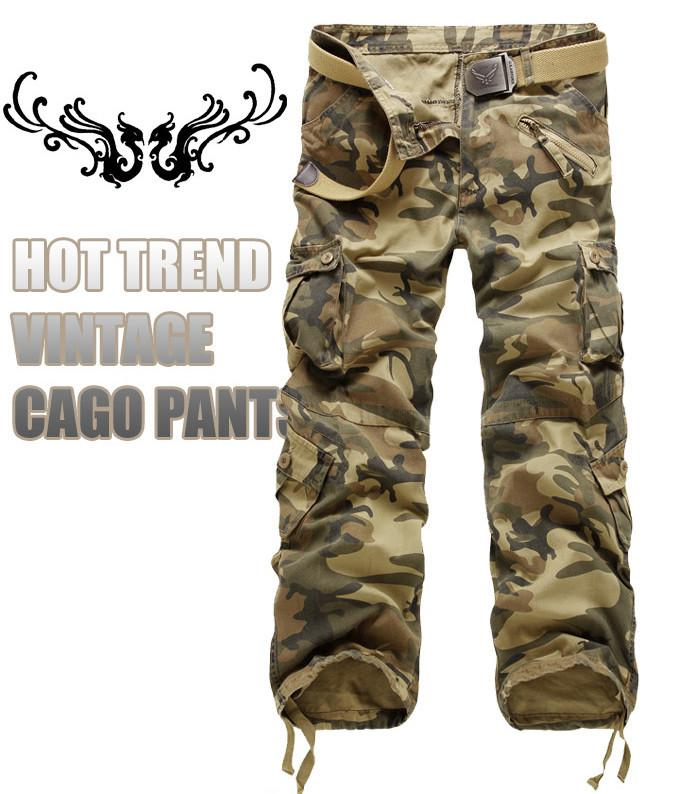pants: (284, 19, 633, 736)
